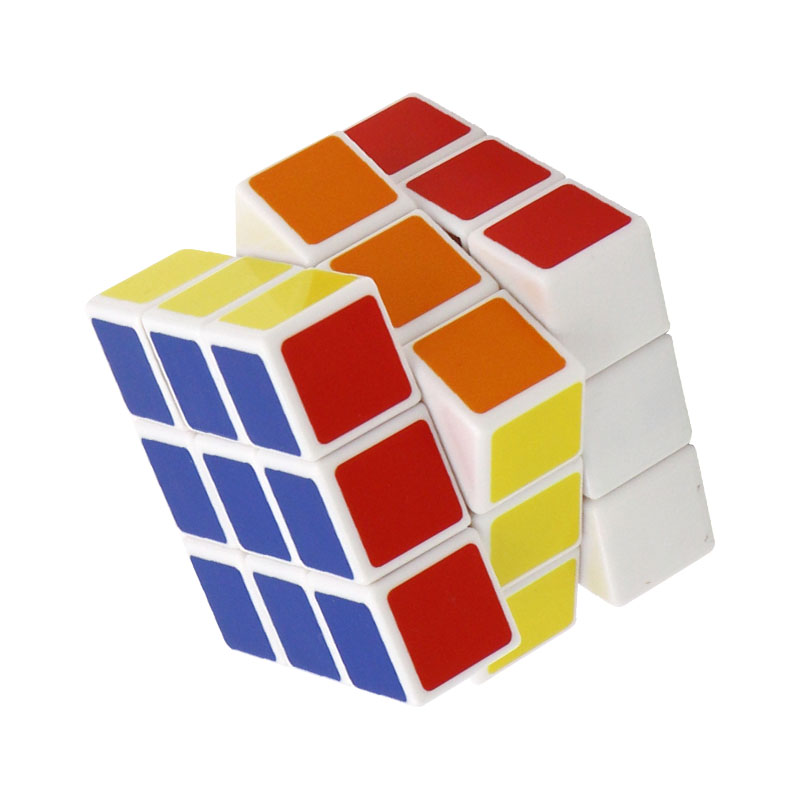cube: (84, 84, 723, 711)
